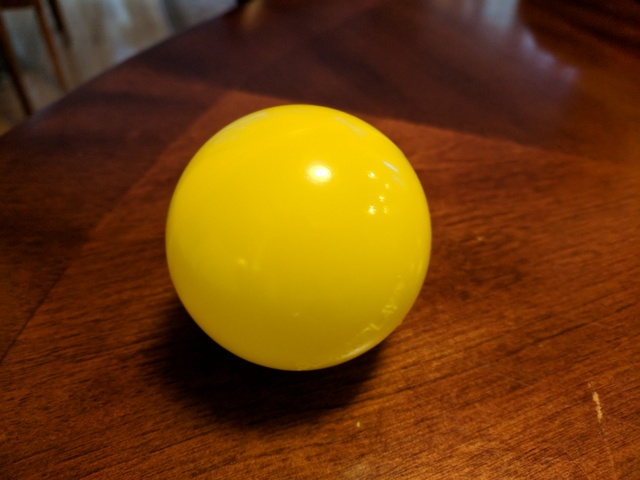ball: (166, 104, 435, 371)
